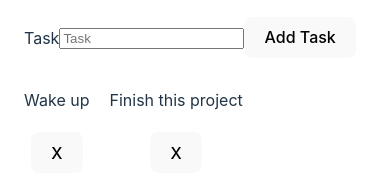
it: should add a task
Expected: the text "Push to github" is not shown
Type "Push to github" into the field labelled "Task". click: (152,39)
box: 59,28 -> 244,49
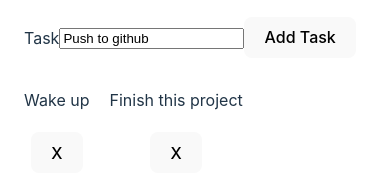
Click the button "Add Task". click: (300,37)
box: 244,17 -> 356,58
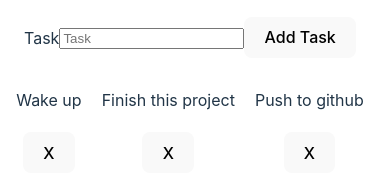
Expected: the text "Push to github" is shown, 255,88 -> 364,112
